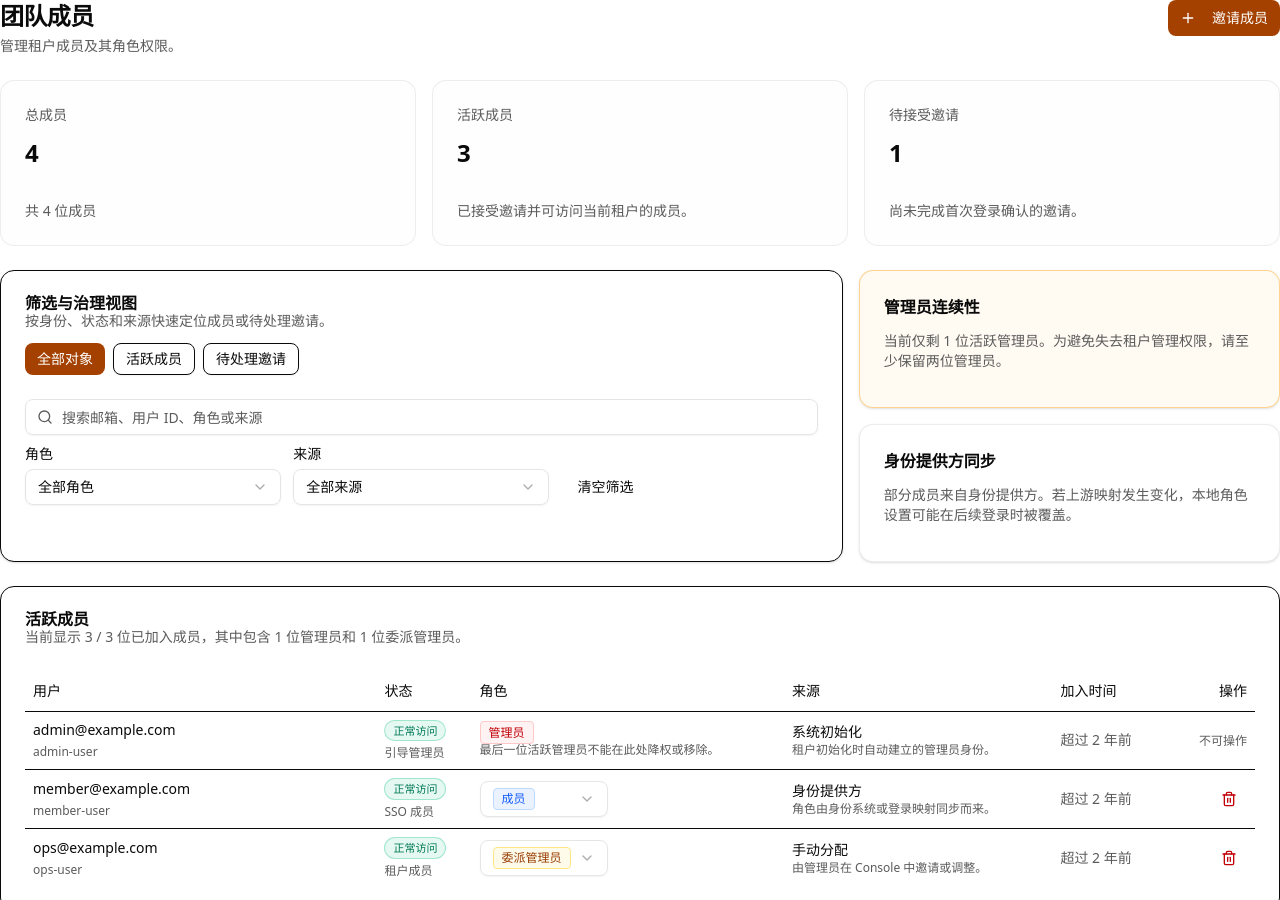
MembersPage invite dialog › closes dialog on cancel
Expected: the text "admin@example.com" is shown, [33, 720, 176, 740]
Step 1. Click the button "邀请成员" → point(1224, 18), box [1168, 0, 1279, 36]
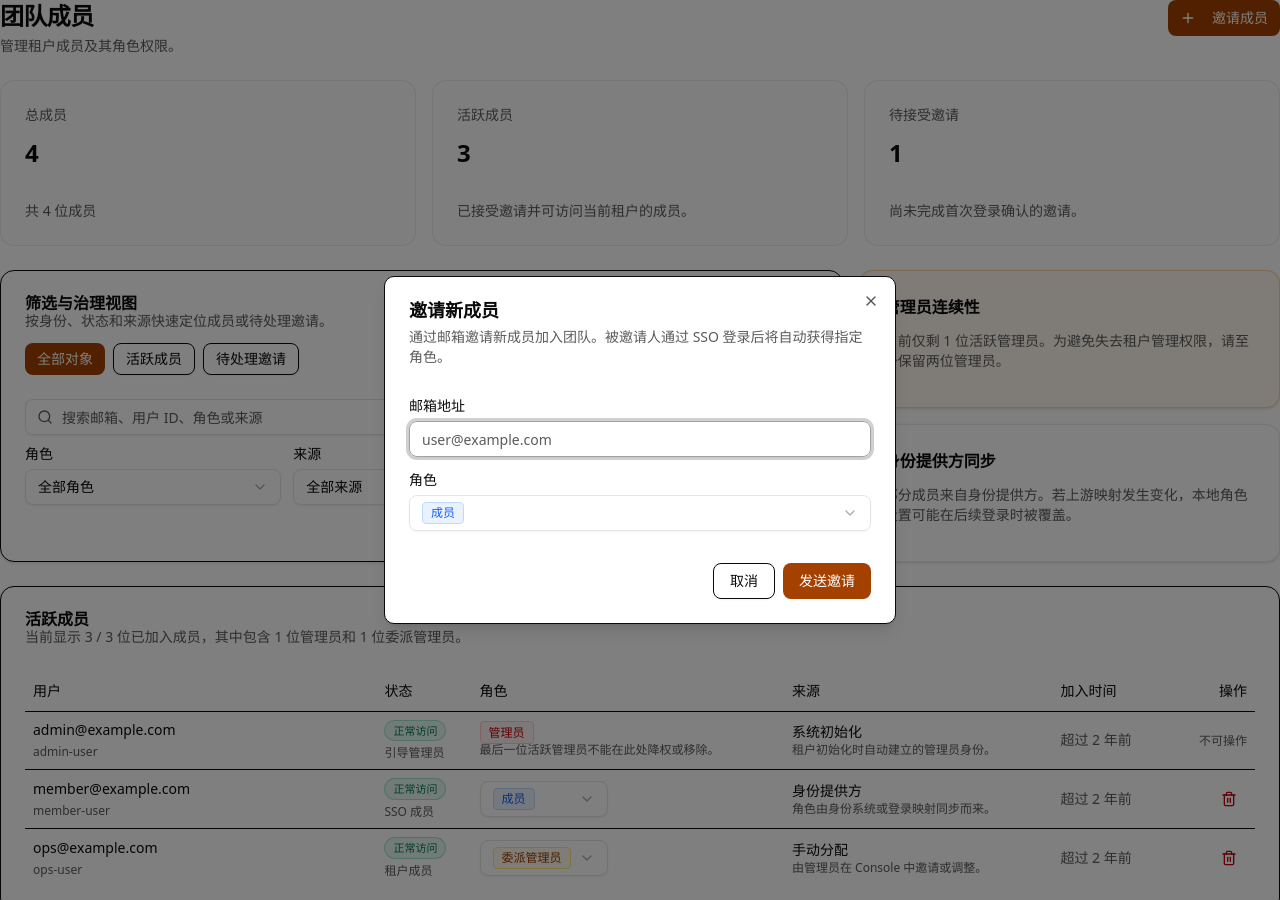
Result: the dialog is shown at [384, 276, 896, 624]
Note: Click cancel button (取消)
Step 2. Click the button "取消" → point(744, 581), box [713, 563, 775, 599]
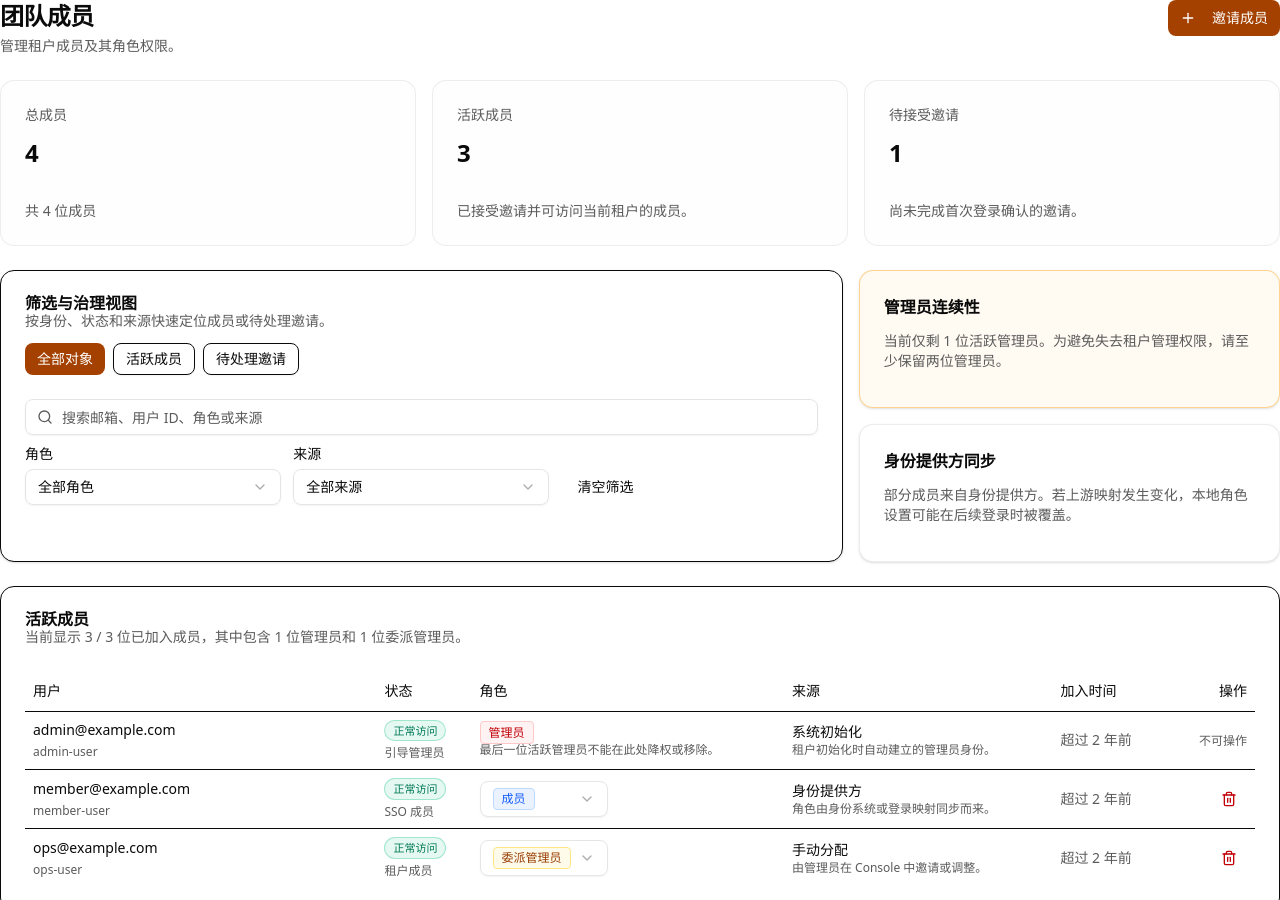
Result: the dialog is gone
